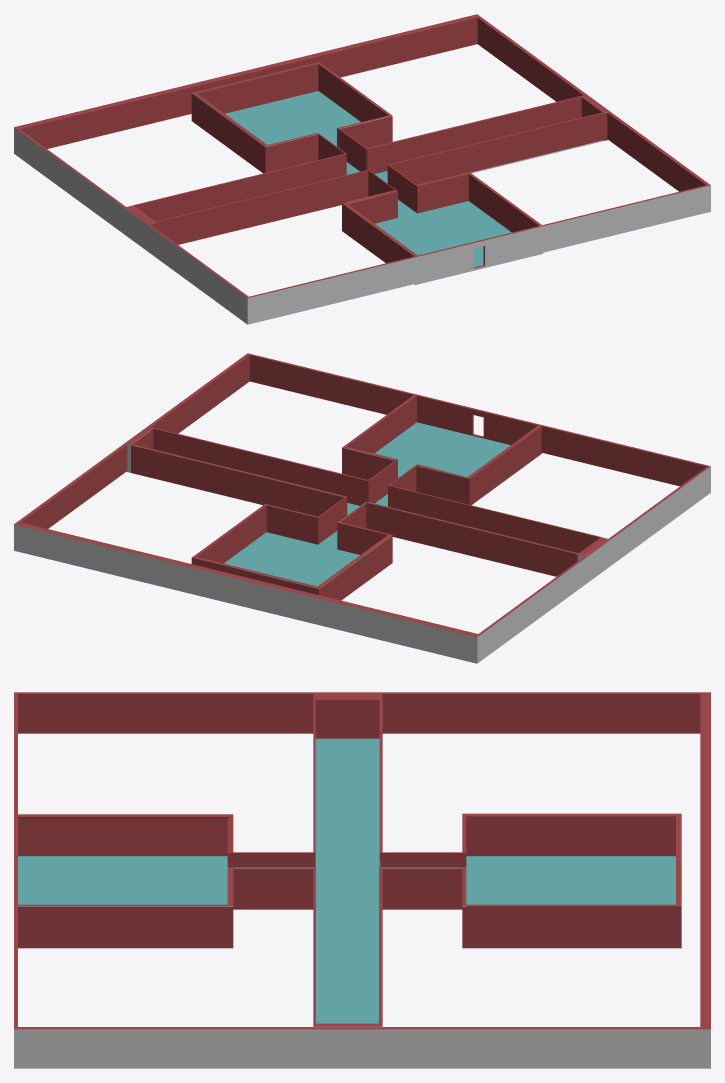
Rendered from oyevi.fbx.
The picture shows the model from 3 angles, top to bottom: view 1: azimuth 30°, elevation 25°; view 2: azimuth 150°, elevation 25°; view 3: azimuth 270°, elevation 25°; orthographic projection. The views are drawn at different scales.
Parts seen in each view (by area): view 1: oyevi; view 2: oyevi; view 3: oyevi.
Boxes of the visible parts, x1,y1,x2,y2 form: oyevi: (14, 14, 710, 324); oyevi: (14, 353, 710, 663); oyevi: (14, 692, 710, 1068).
Bounding box in the file's own units: 727 × 42.1 × 635.
